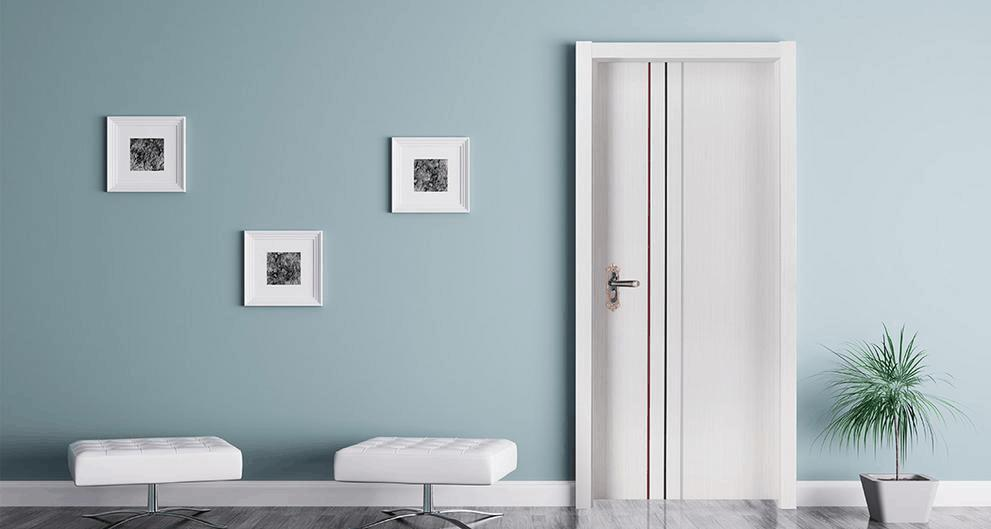door: (592, 62, 773, 497)
